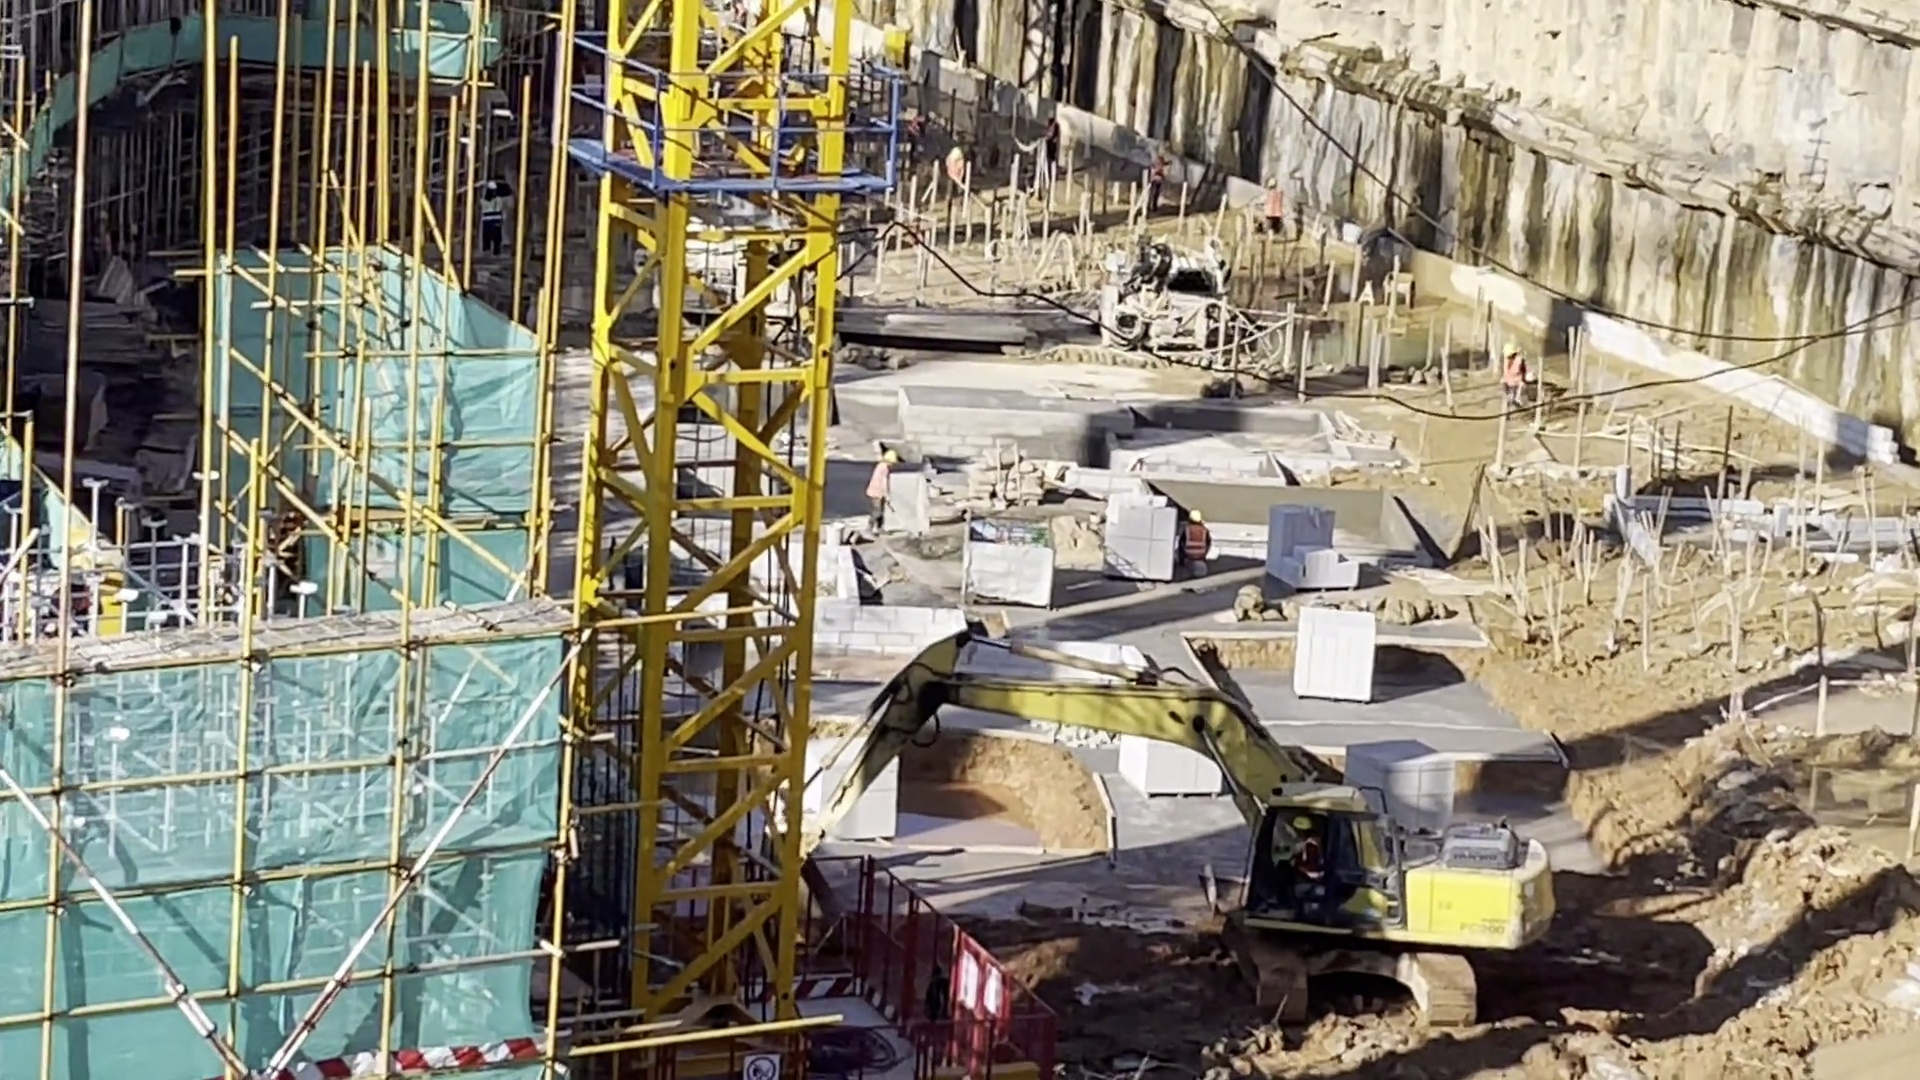helmet: (1294, 817, 1313, 831), (1190, 510, 1205, 526), (883, 446, 894, 467), (1265, 178, 1277, 191), (1503, 344, 1517, 355), (1046, 109, 1054, 119), (487, 181, 495, 189)
person: (1284, 812, 1336, 916), (1493, 337, 1540, 413), (1171, 508, 1216, 579), (478, 180, 511, 264), (862, 448, 894, 533), (1140, 148, 1175, 211), (904, 108, 933, 168), (1259, 179, 1284, 235), (1044, 108, 1063, 171)
vest: (1184, 530, 1206, 561), (868, 465, 885, 504), (1500, 363, 1518, 396), (1264, 197, 1286, 222), (480, 201, 502, 222), (906, 119, 925, 140), (1148, 160, 1165, 182), (1045, 122, 1059, 147)
